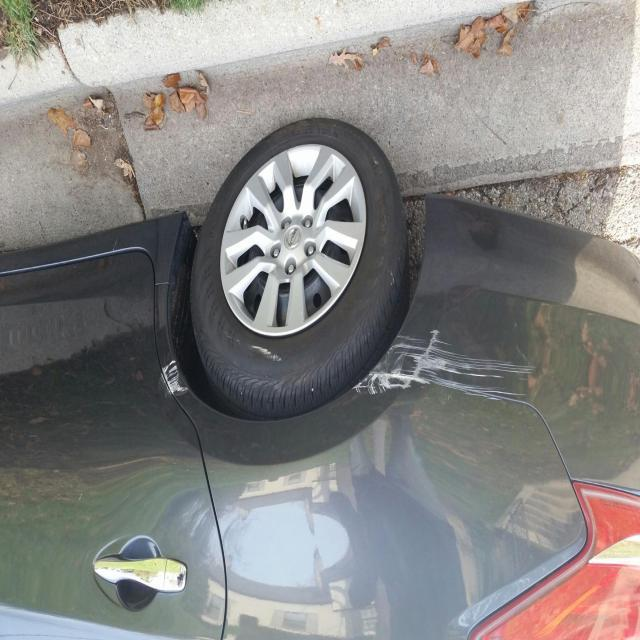scratch: (347, 328, 557, 416), (146, 334, 198, 419)
